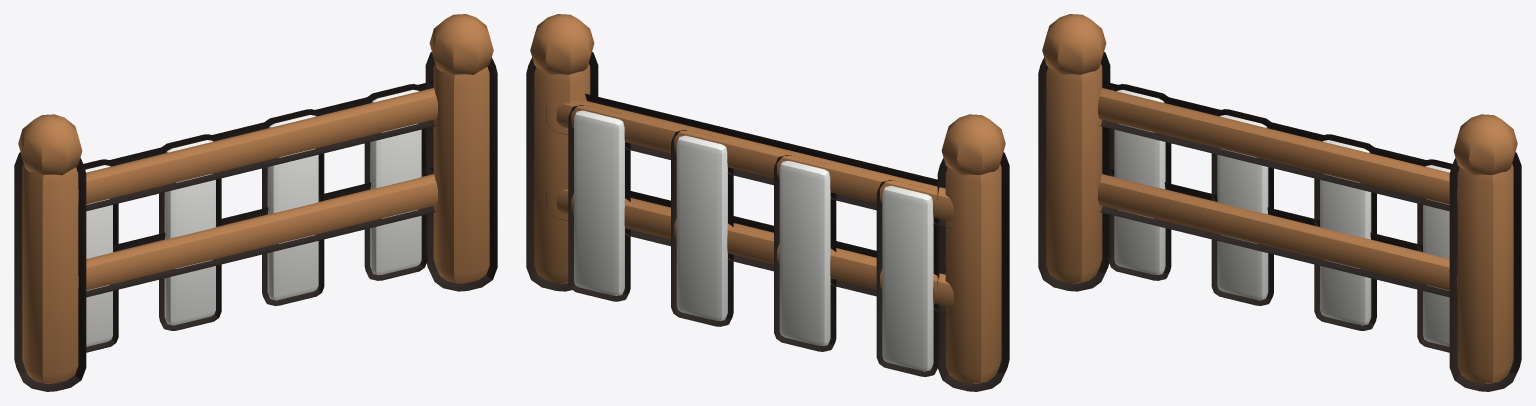
File: Fence.fbx
3 renders of one model, left to right at view 1: azimuth 30°, elevation 25°; view 2: azimuth 150°, elevation 25°; view 3: azimuth 330°, elevation 25°, orthographic.
Visible parts, largest first — view 1: PR_Fence_Wood, PR_Fence_Outline, PR_Fence_White; view 2: PR_Fence_Wood, PR_Fence_White, PR_Fence_Outline; view 3: PR_Fence_Wood, PR_Fence_Outline, PR_Fence_White.
Part boxes in pixels (x1,y1,x2,y2): PR_Fence_Wood: [18, 14, 493, 383]; PR_Fence_Outline: [14, 52, 497, 391]; PR_Fence_White: [85, 89, 421, 346]; PR_Fence_Wood: [530, 14, 1005, 383]; PR_Fence_White: [574, 110, 933, 371]; PR_Fence_Outline: [526, 52, 1009, 391]; PR_Fence_Wood: [1042, 14, 1517, 383]; PR_Fence_Outline: [1038, 52, 1521, 391]; PR_Fence_White: [1114, 89, 1450, 346].
Size of the model in its own units: 2.29 by 1.25 by 0.323.
